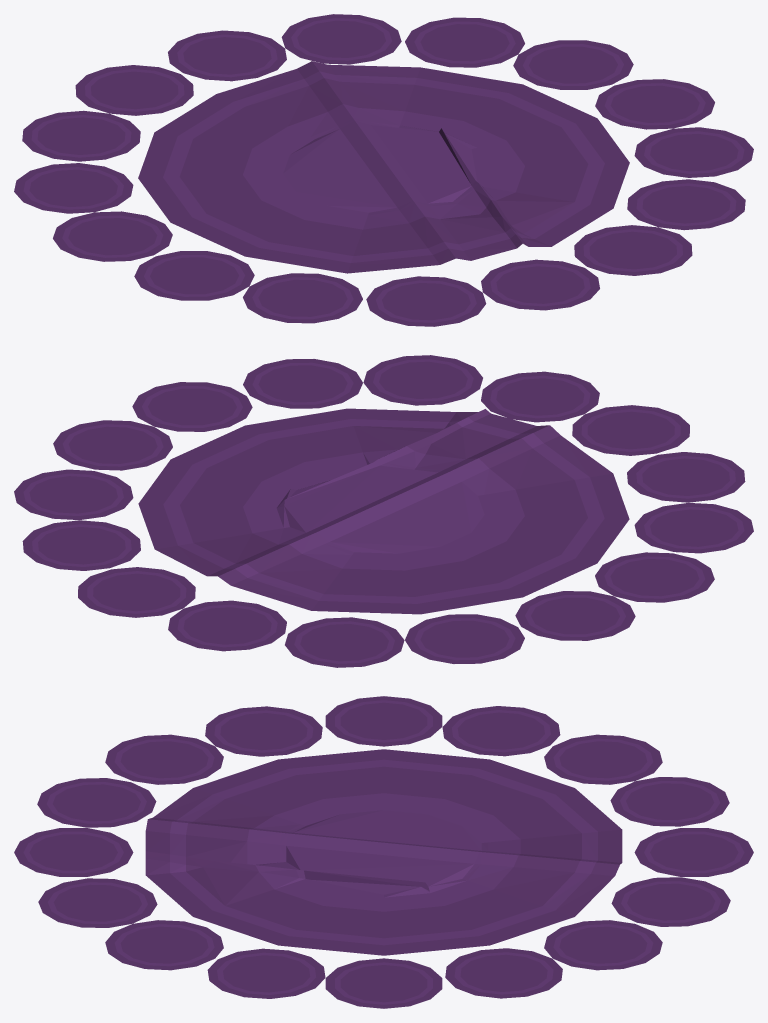
File: SFHW_Rug_001.fbx
3 views of the same model, one above another, from view 1: azimuth 30°, elevation 25°; view 2: azimuth 150°, elevation 25°; view 3: azimuth 270°, elevation 25° (orthographic).
Parts seen in each view (by area): view 1: SFHW_Rug_001; view 2: SFHW_Rug_001; view 3: SFHW_Rug_001.
Boxes of the visible parts, x1,y1,x2,y2 form: SFHW_Rug_001: [14, 14, 753, 326]; SFHW_Rug_001: [14, 355, 753, 667]; SFHW_Rug_001: [14, 696, 753, 1008].
Size of the model in its own units: 399 by 6.6 by 399.
